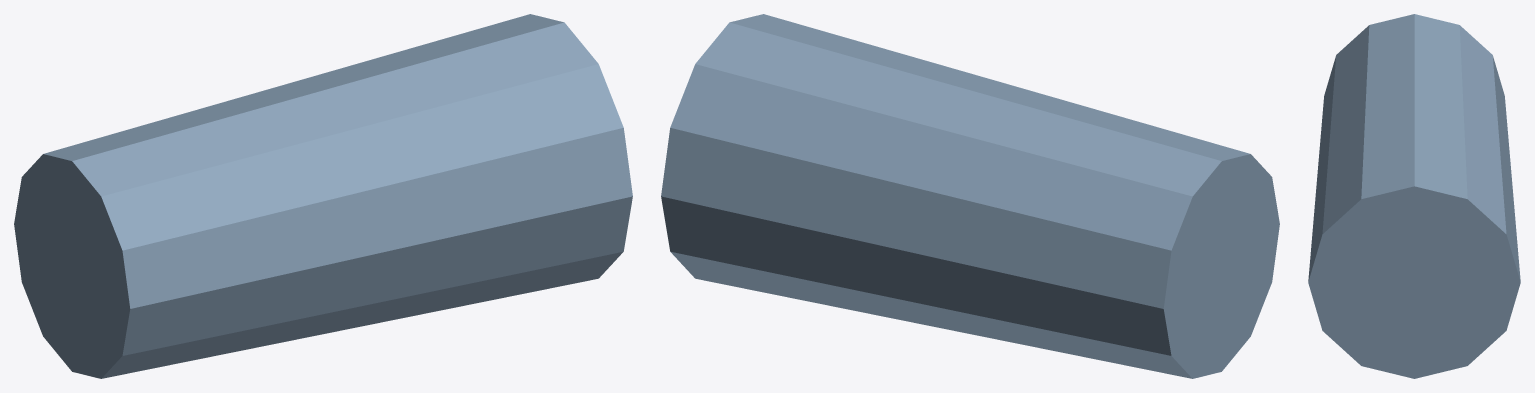
File: bone_13.obj
The picture shows the model from 3 angles, left to right: view 1: azimuth 30°, elevation 25°; view 2: azimuth 150°, elevation 25°; view 3: azimuth 270°, elevation 25°; orthographic projection. The views are drawn at different scales.
Visible parts, largest first — view 1: bone_13; view 2: bone_13; view 3: bone_13.
Boxes of the visible parts, x1,y1,x2,y2 form: bone_13: (14, 14, 632, 378); bone_13: (661, 14, 1279, 378); bone_13: (1308, 14, 1520, 378).
Size of the model in its own units: 0.0333 by 0.016 by 0.016.
